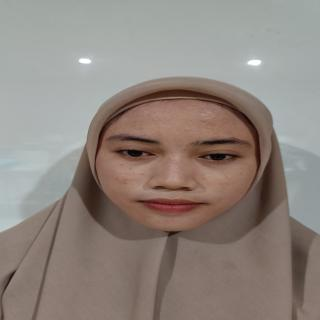Netral: (85, 88, 273, 235)
